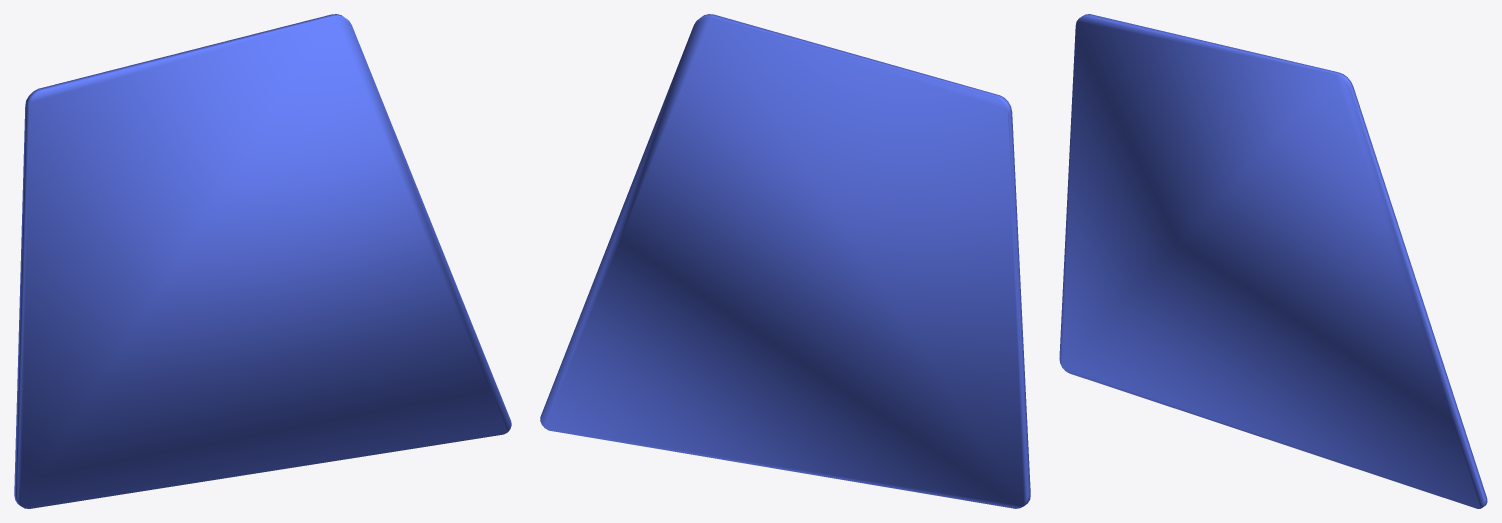
The model's file is Ventana.fbx.
3 views of the same model, side by side, from view 1: azimuth 30°, elevation 25°; view 2: azimuth 150°, elevation 25°; view 3: azimuth 330°, elevation 25° (orthographic). The views are drawn at different scales.
Parts seen in each view (by area): view 1: Cone; view 2: Cone; view 3: Cone.
Part boxes in pixels (x1,y1,x2,y2): Cone: [14, 14, 511, 508]; Cone: [540, 14, 1030, 508]; Cone: [1059, 14, 1487, 508].
Size of the model in its own units: 1.58 by 0.0609 by 1.4.
